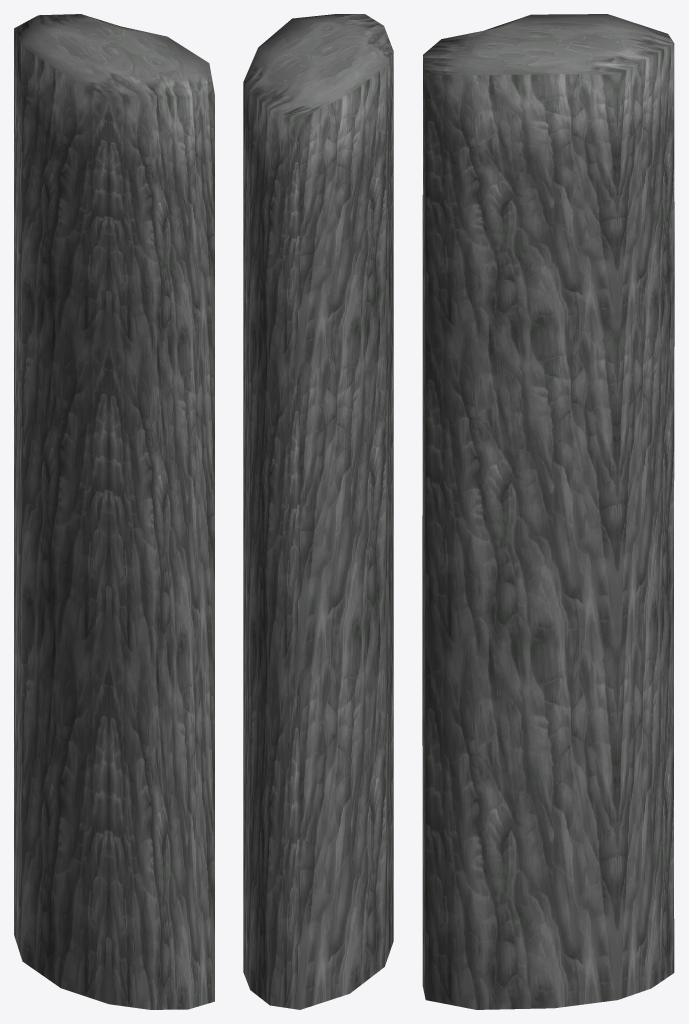
File: SWORDLIGHT20_PS-AREA01 PLATFORM01.fbx
The picture shows the model from 3 angles, left to right: view 1: azimuth 30°, elevation 25°; view 2: azimuth 150°, elevation 25°; view 3: azimuth 270°, elevation 25°; orthographic projection. The views are drawn at different scales.
Visible parts, largest first — view 1: SWORDLIGHT20_PS-AREA01 PLATFORM01; view 2: SWORDLIGHT20_PS-AREA01 PLATFORM01; view 3: SWORDLIGHT20_PS-AREA01 PLATFORM01.
Boxes of the visible parts, <box> form: SWORDLIGHT20_PS-AREA01 PLATFORM01: <box>14,14,214,1009</box>; SWORDLIGHT20_PS-AREA01 PLATFORM01: <box>243,14,393,1009</box>; SWORDLIGHT20_PS-AREA01 PLATFORM01: <box>422,14,674,1009</box>.
Size of the model in its own units: 30000 by 214218 by 52012.
2 materials, 2 textured.
